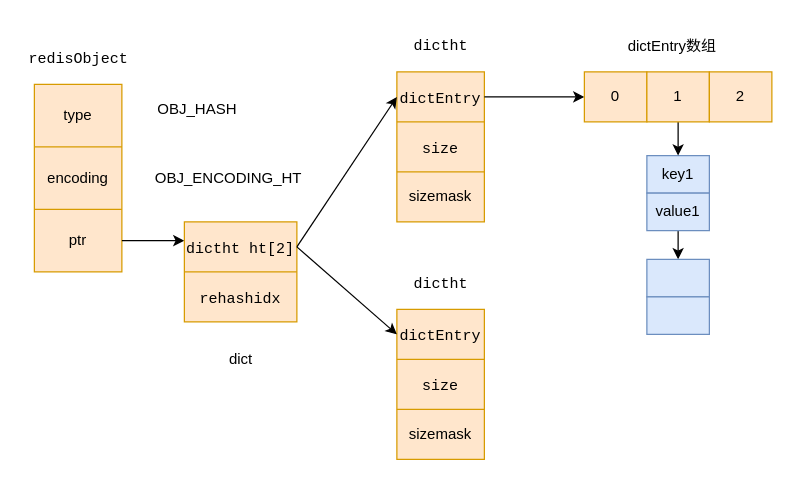
The diagram is 794 pixels wide and 481 high, and some of its shapes have lost their labels. The shapes that lost their labels are listed below. From the top down, each one's centre as x and y in pixels, then its label:
At pixel 677 277: "key2".
At pixel 677 315: "value2".
